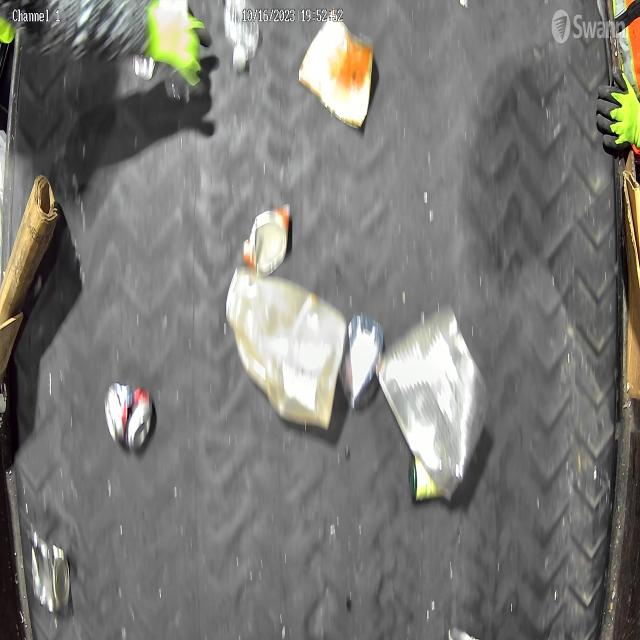can: (372, 301, 492, 506), (27, 526, 71, 630), (102, 375, 153, 459), (242, 203, 291, 288)
milk_jug: (228, 262, 346, 432)
plastic_bottle: (215, 0, 269, 80)
